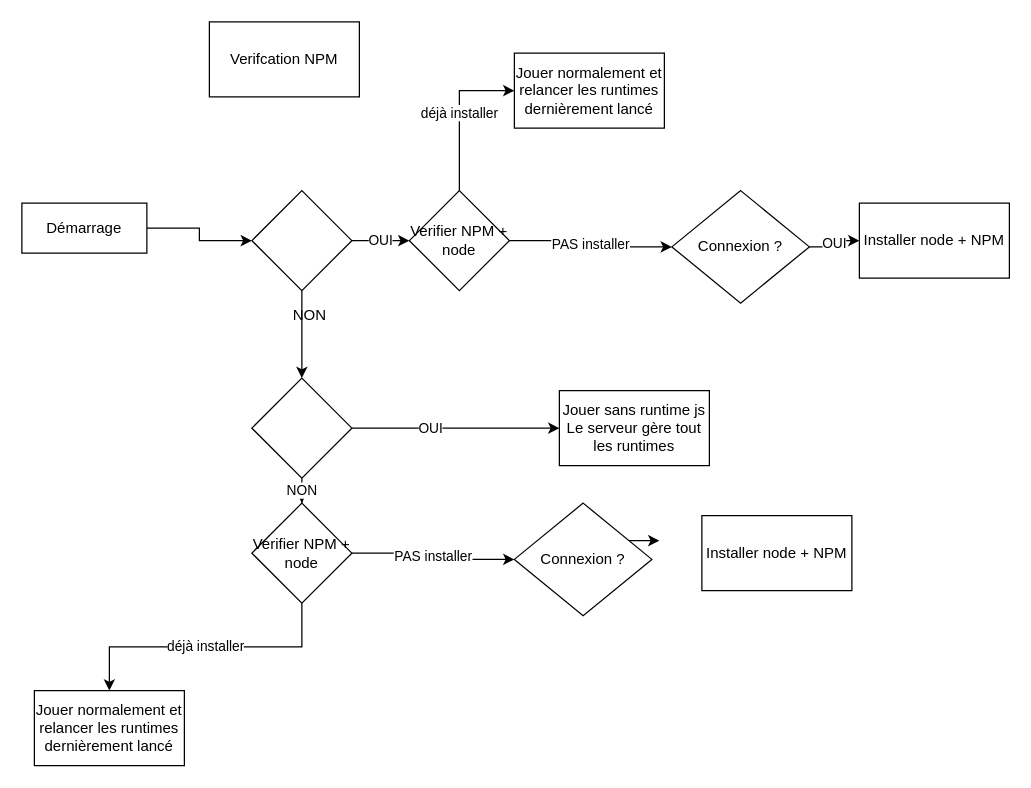
This 1031x788 diagram has some shape labels left out. The shapes that lost their labels are listed below. From the top down, each one's centre as x and y in pixels, then its label:
At [301,240]: "Serveur ?".
At [301,427]: "Connecter serveur".
